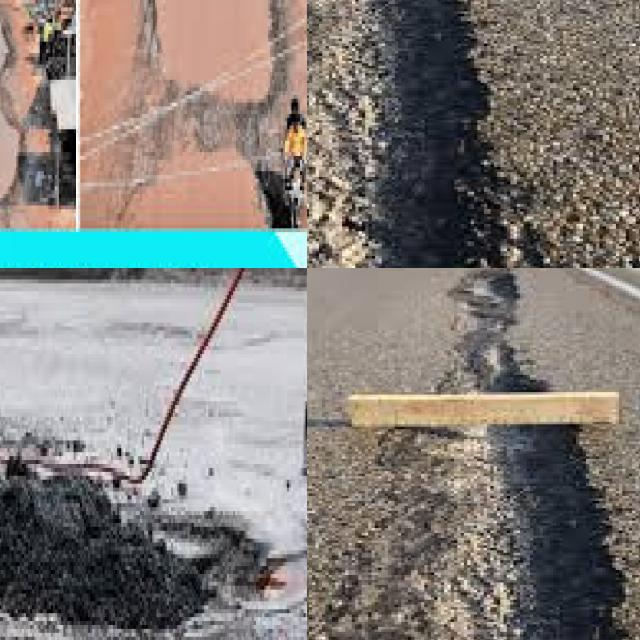Pothole: (307, 0, 542, 268), (451, 427, 632, 640), (127, 0, 307, 202), (154, 515, 307, 609)
